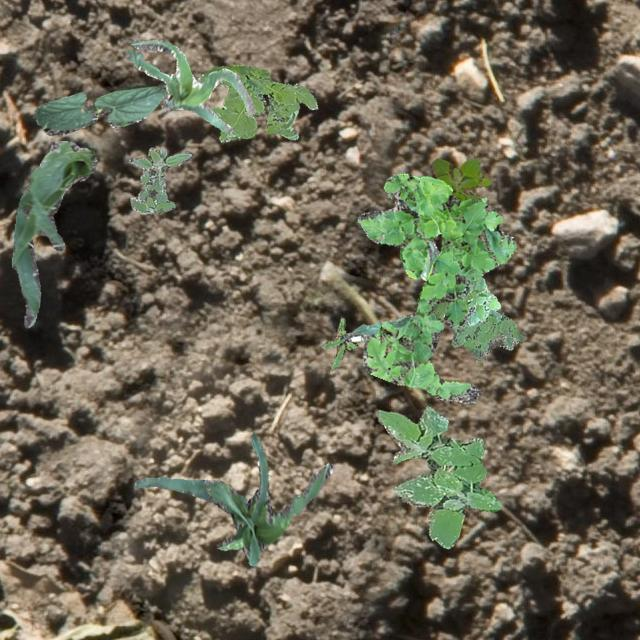crop: (134, 432, 332, 564), (10, 140, 96, 326), (124, 39, 254, 132), (340, 238, 450, 342), (34, 84, 165, 134), (420, 248, 430, 280)
weed: (356, 172, 514, 402), (374, 406, 500, 548), (196, 64, 316, 142), (128, 146, 192, 214), (451, 307, 524, 358), (430, 156, 490, 200), (320, 316, 366, 368), (458, 276, 499, 324)
